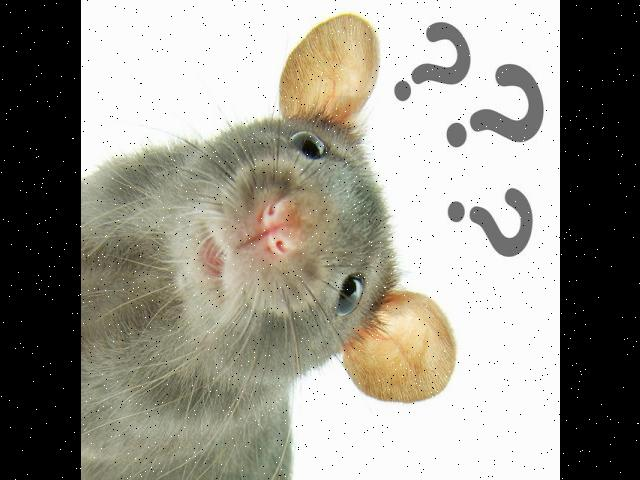Tikus: (80, 14, 455, 480)
